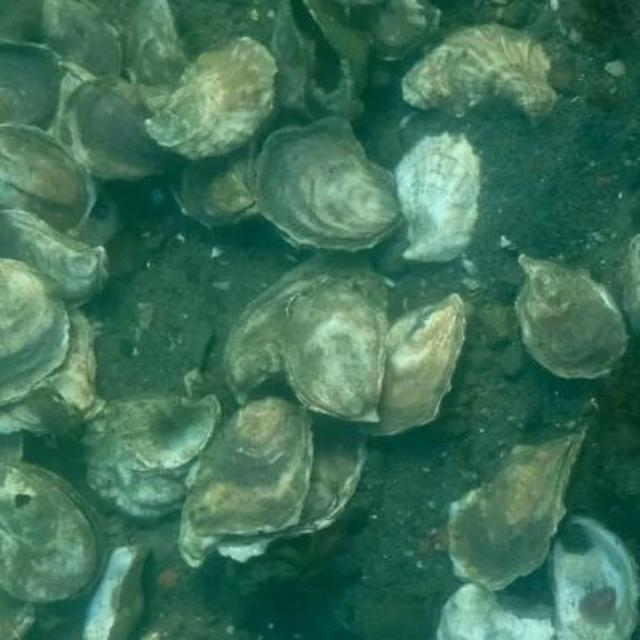Oyster-Closed: (178, 411, 368, 565), (225, 249, 388, 404), (449, 430, 586, 592), (254, 114, 403, 248), (190, 380, 313, 535), (84, 394, 219, 519), (149, 35, 278, 156), (283, 277, 388, 425), (0, 462, 107, 604), (360, 298, 468, 435), (403, 25, 554, 122), (517, 257, 630, 379), (0, 304, 103, 434), (54, 79, 182, 180), (397, 130, 483, 262), (0, 212, 108, 305), (0, 258, 68, 404), (182, 132, 259, 230), (437, 581, 555, 638), (41, 0, 126, 77), (0, 39, 64, 127), (127, 0, 186, 87), (367, 0, 440, 58)
Oyster-Open: (0, 125, 96, 237)
